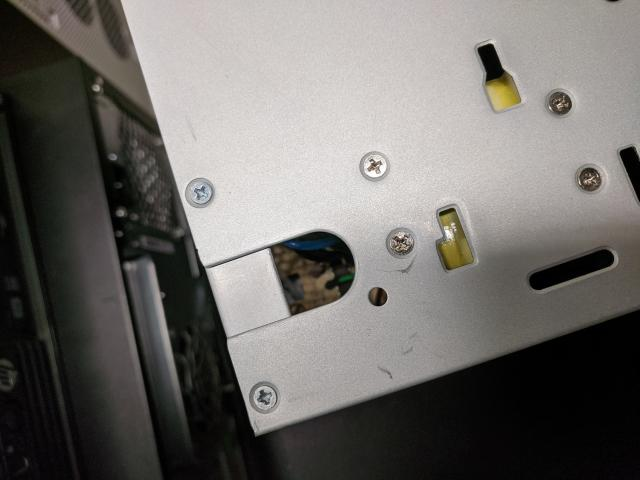CRS: (570, 162, 605, 193), (359, 148, 388, 184), (546, 84, 576, 118), (185, 176, 215, 208), (252, 381, 280, 412), (387, 226, 415, 256)
